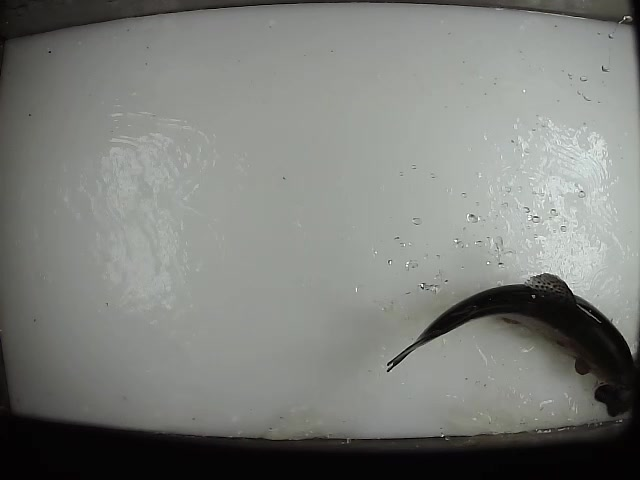fish: (383, 271, 640, 426)
